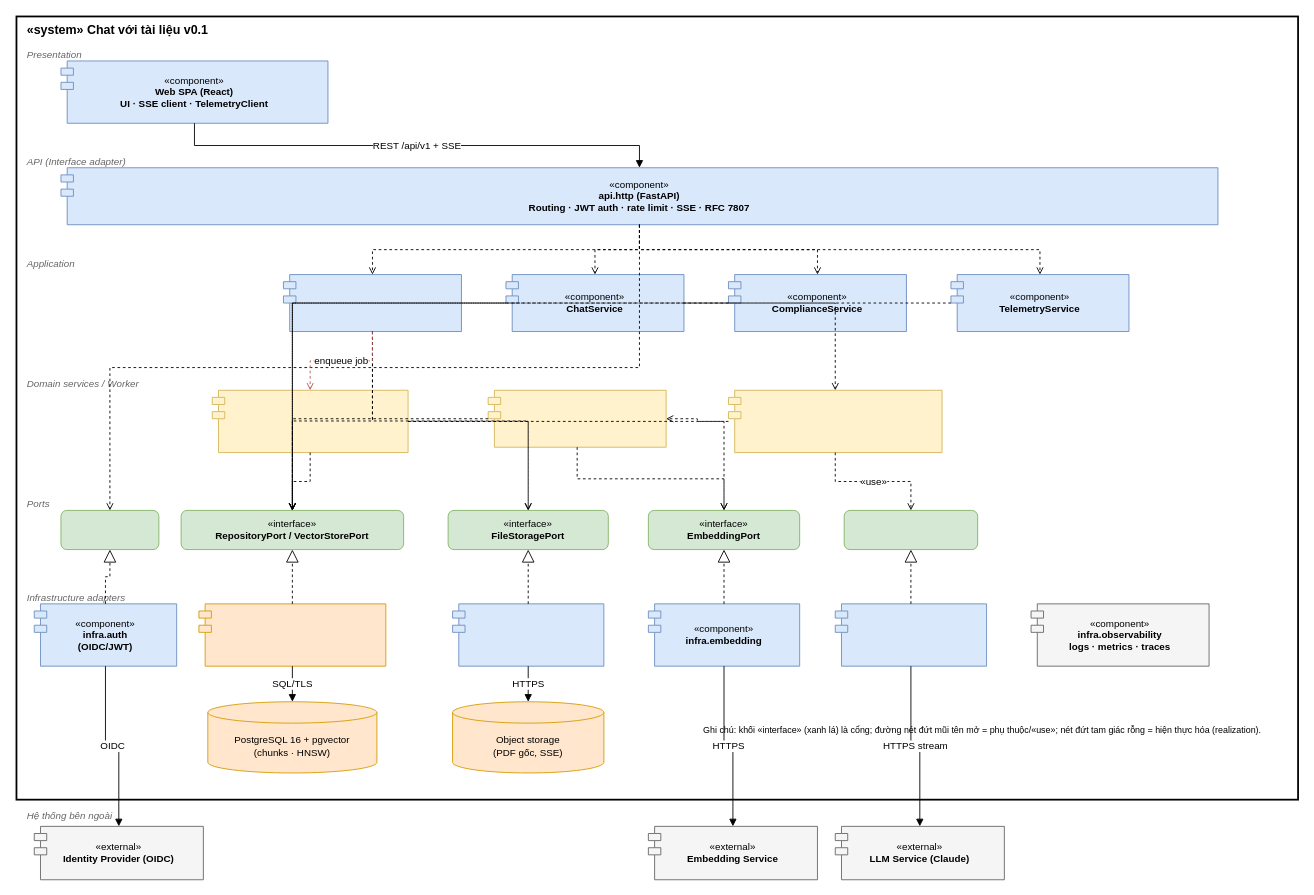
The diagram is 1314 pixels wide and 895 high, and some of its shapes have lost their labels. The centre of each missing label's shape, as x and y in pixels:
"«component» Answering prompt · citations · grounded" belongs at point (835, 421).
"«component» DocumentService" belongs at point (372, 303).
"«component» infra.llm" belongs at point (910, 634).
"«component» infra.persistence (PostgreSQL)" belongs at point (292, 634).
"«component» infra.storage (S3 client)" belongs at point (528, 634).
"«component» Ingestion Worker extract · chunk · embed" belongs at point (309, 421).
"«component» Retrieval" belongs at point (576, 418).
"«interface» AuthPort" belongs at point (109, 530).
"«interface» LLMPort" belongs at point (910, 530).
